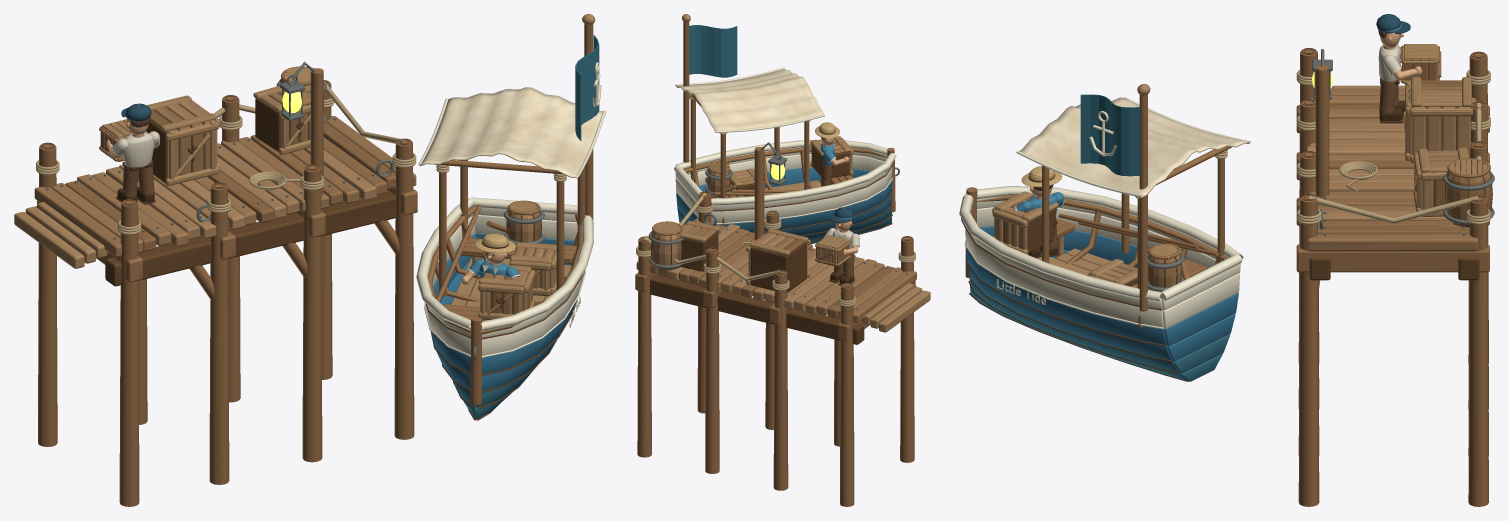
The model's file is harbor-mode.glb.
The picture shows the model from 3 angles, left to right: view 1: azimuth 30°, elevation 25°; view 2: azimuth 150°, elevation 25°; view 3: azimuth 270°, elevation 25°; orthographic projection. The views are drawn at different scales.
Parts seen in each view (by area): view 1: DOCK_STATIC | Harbor | wood.001, BOAT | Harbor | linen, BOAT | Architecture • warm painted ivory, DOCK_STATIC | Harbor | wood_dark, BOAT | Harbor | wood.001, DOCK_STATIC | Harbor | wood_light, DOCK_STATIC | Architecture • cedar grain 03, DOCK_STATIC | Architecture • cedar grain 02, BOAT | Harbor | blue, DOCK_STATIC | Architecture • cedar grain 04, BOAT | Harbor | wood_light, DOCK_STATIC | Architecture • cedar grain 00 (+8 smaller); view 2: DOCK_STATIC | Harbor | wood.001, BOAT | Architecture • warm painted ivory, DOCK_STATIC | Harbor | wood_dark, BOAT | Harbor | linen, BOAT | Harbor | wood.001, BOAT | Architecture • faded navy blue, BOAT | Harbor | blue, DOCK_STATIC | Harbor | wood_light, DOCK_STATIC | Architecture • cedar grain 03, DOCK_STATIC | Architecture • cedar grain 02, DOCK_STATIC | Architecture • cedar grain 04, DOCK_STATIC | Harbor | rope (+9 smaller); view 3: DOCK_STATIC | Harbor | wood.001, BOAT | Architecture • warm painted ivory, BOAT | Harbor | blue, BOAT | Harbor | wood.001, BOAT | Architecture • faded navy blue, BOAT | Harbor | linen, DOCK_STATIC | Architecture • cedar grain 02, DOCK_STATIC | Harbor | rope, DOCK_STATIC | Harbor | wood_light, DOCK_STATIC | Architecture • cedar grain 06, DOCK_STATIC | Architecture • cedar grain 00, BOAT | Harbor | wood_dark (+9 smaller).
Part boxes in pixels (bbox=[...]): DOCK_STATIC | Harbor | wood.001: bbox=[37, 66, 417, 506]; BOAT | Harbor | linen: bbox=[420, 87, 602, 178]; BOAT | Architecture • warm painted ivory: bbox=[416, 62, 606, 357]; DOCK_STATIC | Harbor | wood_dark: bbox=[35, 78, 411, 286]; BOAT | Harbor | wood.001: bbox=[428, 24, 593, 404]; DOCK_STATIC | Harbor | wood_light: bbox=[14, 67, 310, 268]; DOCK_STATIC | Architecture • cedar grain 03: bbox=[52, 90, 307, 252]; DOCK_STATIC | Architecture • cedar grain 02: bbox=[34, 116, 416, 257]; BOAT | Harbor | blue: bbox=[431, 233, 576, 391]; DOCK_STATIC | Architecture • cedar grain 04: bbox=[106, 85, 310, 239]; BOAT | Harbor | wood_light: bbox=[451, 14, 595, 319]; DOCK_STATIC | Architecture • cedar grain 00: bbox=[65, 80, 395, 251]; DOCK_STATIC | Harbor | wood.001: bbox=[635, 147, 915, 506]; BOAT | Architecture • warm painted ivory: bbox=[674, 67, 896, 224]; DOCK_STATIC | Harbor | wood_dark: bbox=[637, 191, 916, 344]; BOAT | Harbor | linen: bbox=[675, 69, 823, 132]; BOAT | Harbor | wood.001: bbox=[683, 21, 895, 225]; BOAT | Architecture • faded navy blue: bbox=[679, 25, 891, 243]; BOAT | Harbor | blue: bbox=[676, 168, 892, 235]; DOCK_STATIC | Harbor | wood_light: bbox=[654, 220, 930, 332]; DOCK_STATIC | Architecture • cedar grain 03: bbox=[654, 227, 903, 318]; DOCK_STATIC | Architecture • cedar grain 02: bbox=[636, 218, 916, 322]; DOCK_STATIC | Architecture • cedar grain 04: bbox=[659, 226, 864, 310]; DOCK_STATIC | Harbor | rope: bbox=[636, 193, 915, 306]; DOCK_STATIC | Harbor | wood.001: bbox=[1296, 48, 1490, 506]; BOAT | Architecture • warm painted ivory: bbox=[959, 97, 1250, 329]; BOAT | Harbor | blue: bbox=[966, 226, 1238, 361]; BOAT | Harbor | wood.001: bbox=[965, 94, 1231, 327]; BOAT | Architecture • faded navy blue: bbox=[969, 94, 1230, 381]; BOAT | Harbor | linen: bbox=[1019, 97, 1249, 197]; DOCK_STATIC | Architecture • cedar grain 02: bbox=[1307, 88, 1490, 251]; DOCK_STATIC | Harbor | rope: bbox=[1296, 70, 1490, 224]; DOCK_STATIC | Harbor | wood_light: bbox=[1332, 77, 1487, 216]; DOCK_STATIC | Architecture • cedar grain 06: bbox=[1306, 92, 1482, 223]; DOCK_STATIC | Architecture • cedar grain 00: bbox=[1318, 80, 1477, 234]; BOAT | Harbor | wood_dark: bbox=[964, 209, 1188, 381].
Size of the model in its own units: 4.26 by 4.2 by 4.32.
